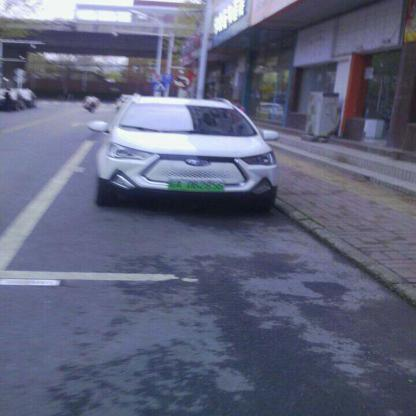lp: (167, 180, 224, 192)
